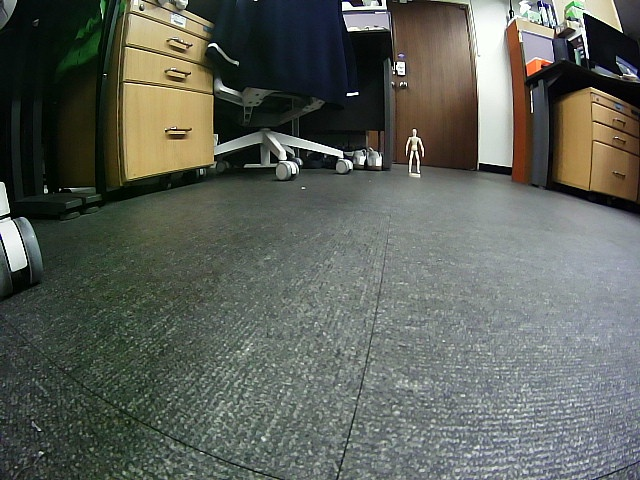person: (405, 128, 425, 174)
